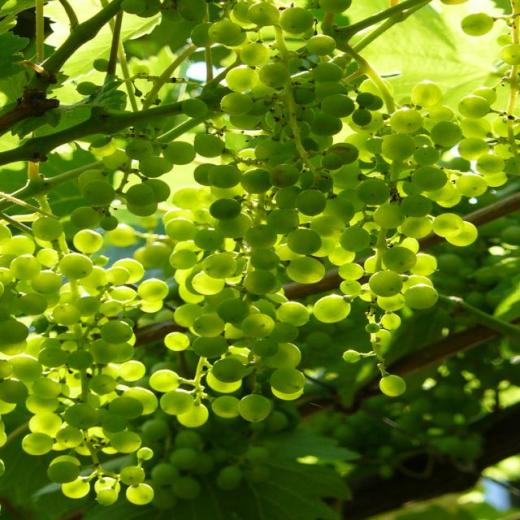Orange: (0, 0, 519, 506)
